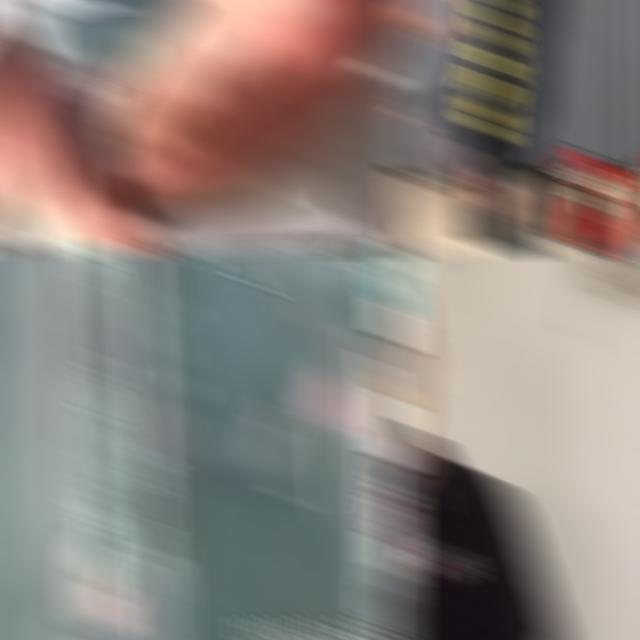Knife_Handle: (0, 48, 377, 232), (305, 359, 350, 538), (394, 68, 431, 128), (405, 0, 448, 50), (394, 79, 431, 133)
